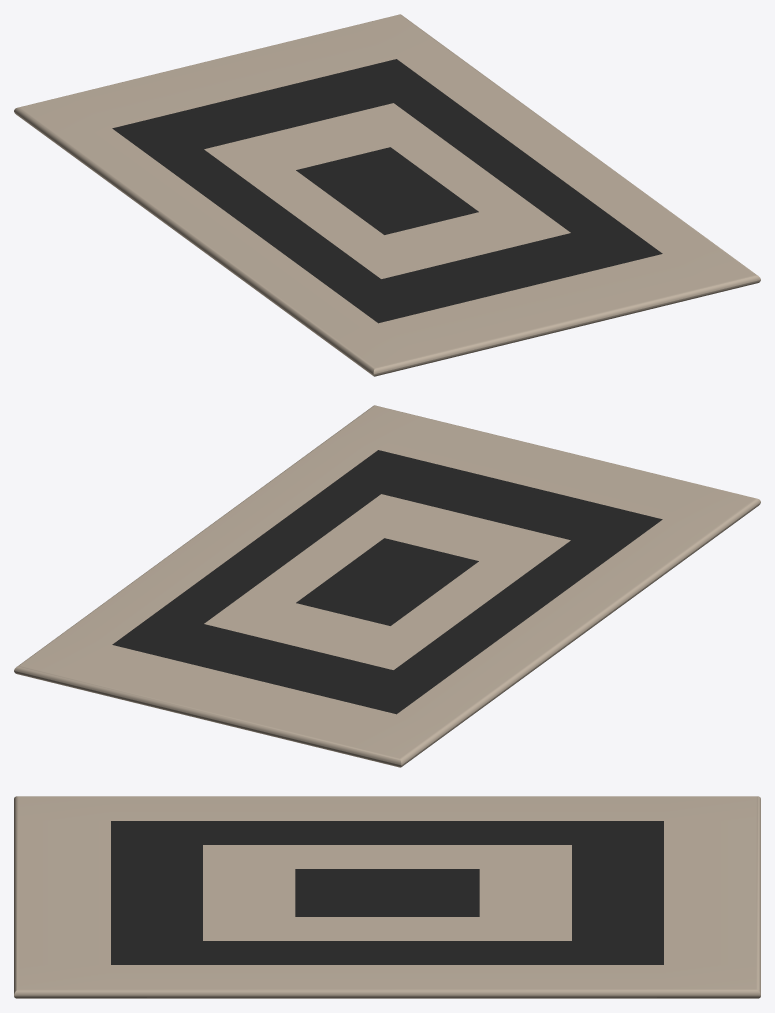
The model's file is Tapis_1.fbx.
3 views of the same model, one above another, from view 1: azimuth 30°, elevation 25°; view 2: azimuth 150°, elevation 25°; view 3: azimuth 270°, elevation 25° (orthographic). The views are drawn at different scales.
Visible parts, largest first — view 1: pCube2779; view 2: pCube2779; view 3: pCube2779.
Part boxes in pixels (x1,y1,x2,y2): pCube2779: (14,14,760,376); pCube2779: (14,405,760,767); pCube2779: (14,796,760,998).
Bounding box in the file's own units: 83.89 × 1.8 × 135.
